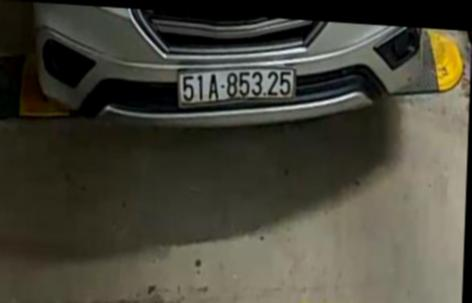License_Plate: (168, 62, 313, 123)
